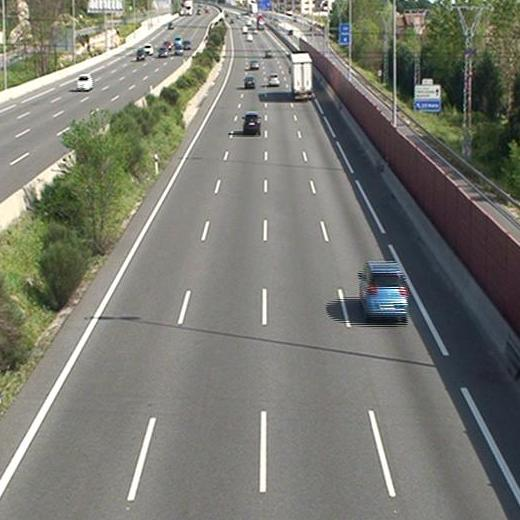car: (359, 261, 408, 319), (242, 112, 261, 132), (243, 77, 255, 90), (267, 73, 279, 85), (248, 60, 258, 69)
truck: (290, 53, 313, 99)
